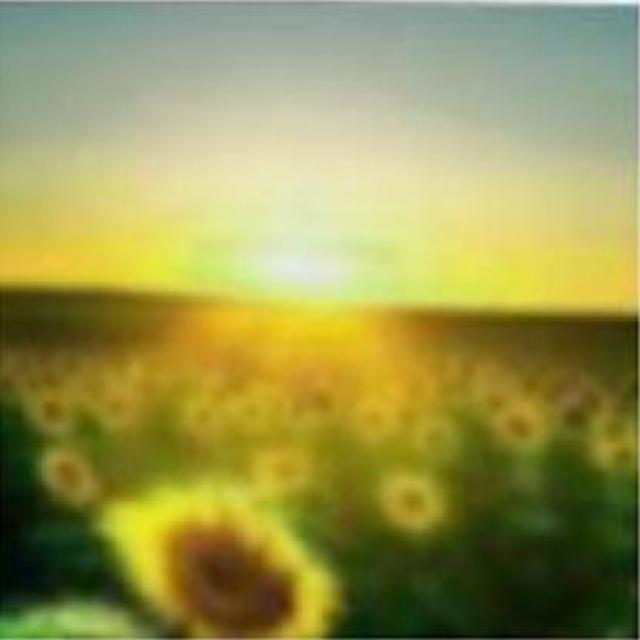sunflower: (100, 483, 343, 640)
